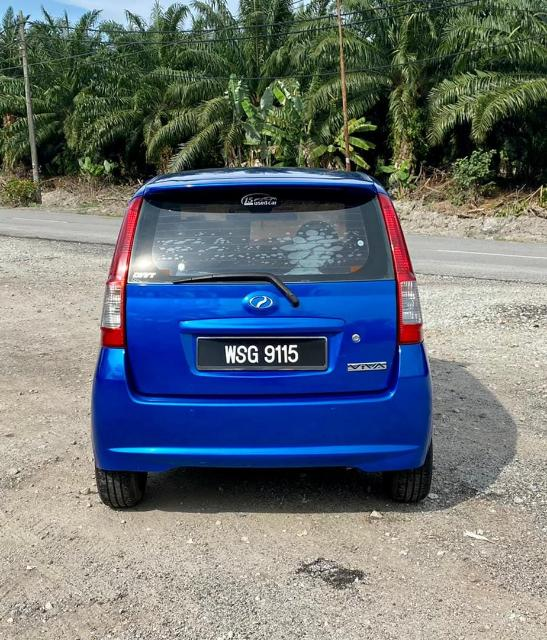License_Plate: (202, 341, 322, 370)
car: (96, 166, 436, 503)
